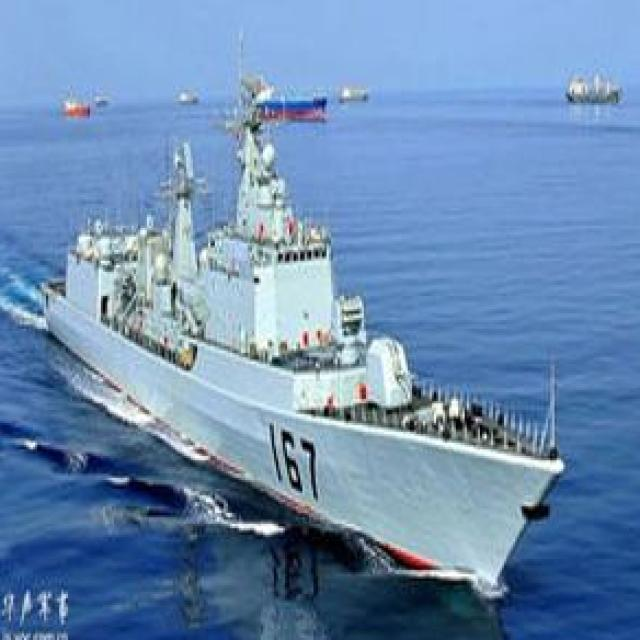navalvessels: (43, 114, 568, 588)
